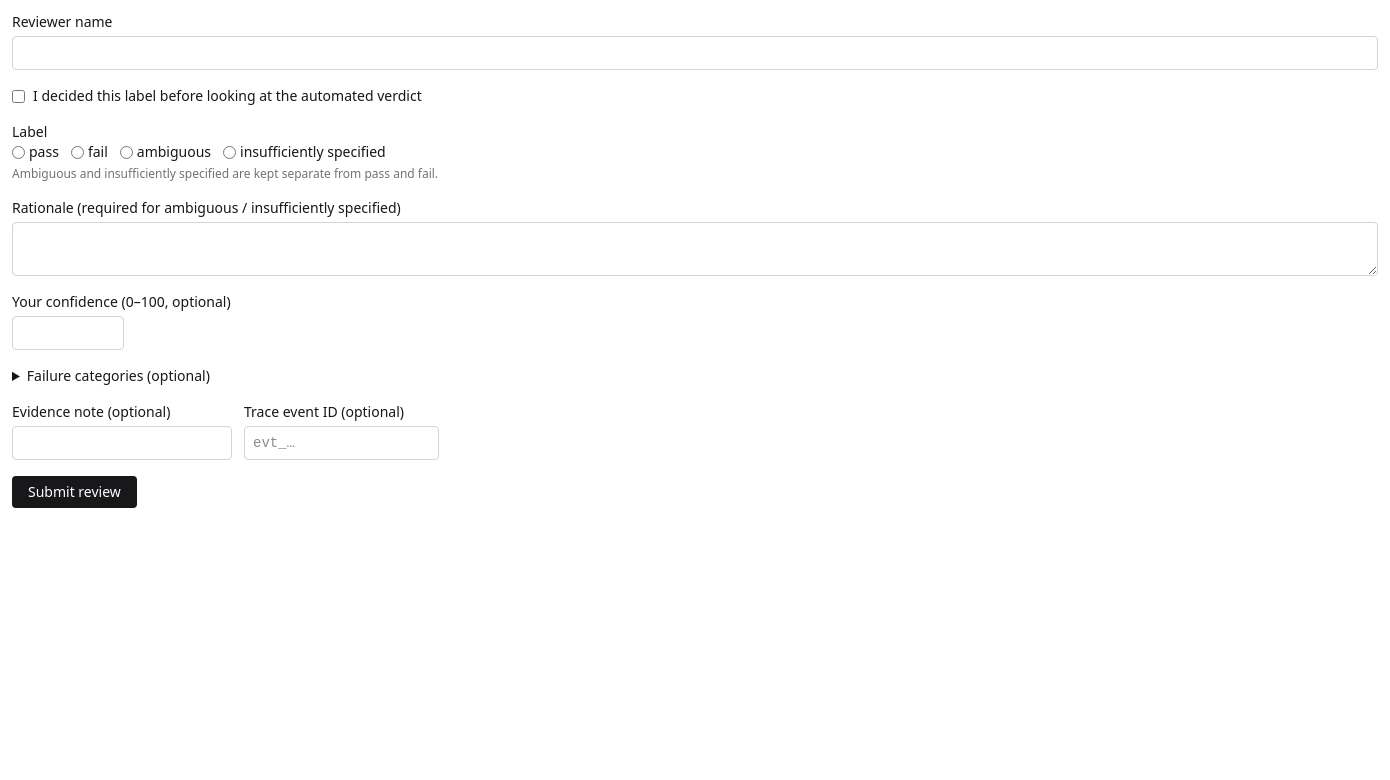
Test: review forms and history › submits through the action and shows field errors it returns
Type "alice" into the field labelled "Reviewer name".
click(695, 53); type("alice")  # box x1=12 y1=36 x2=1378 y2=70
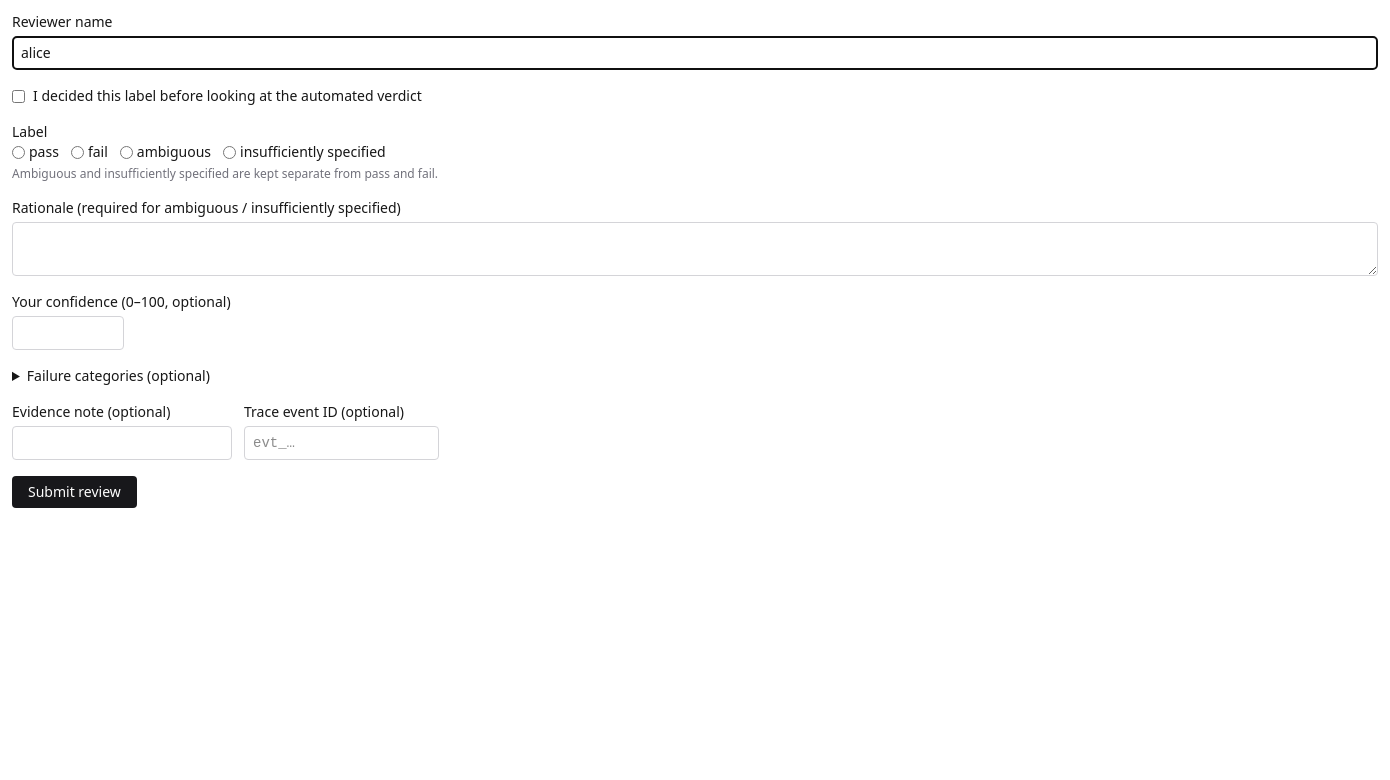
Click the radio button labelled "ambiguous".
click(126, 152)  # box x1=120 y1=146 x2=133 y2=158
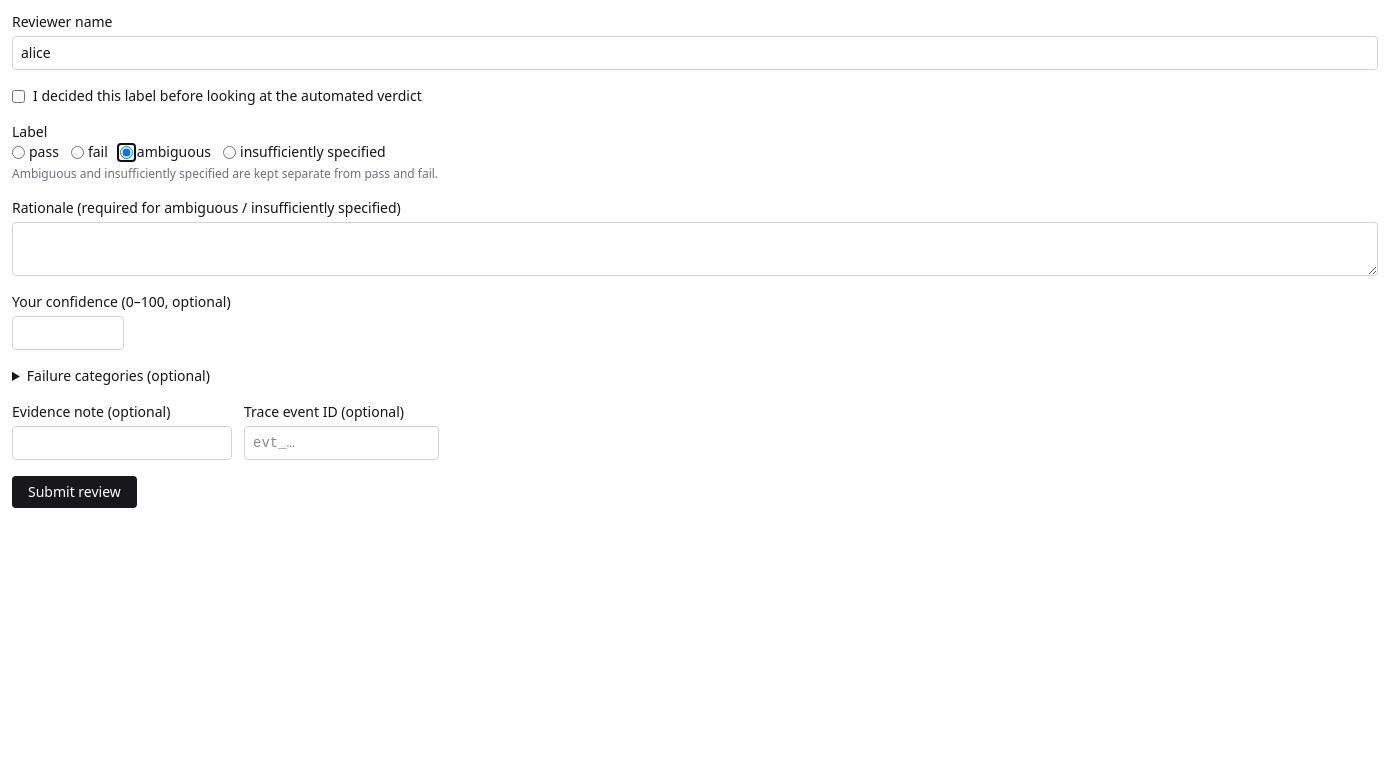
Click the button "Submit review".
click(74, 492)  # box x1=12 y1=476 x2=137 y2=508
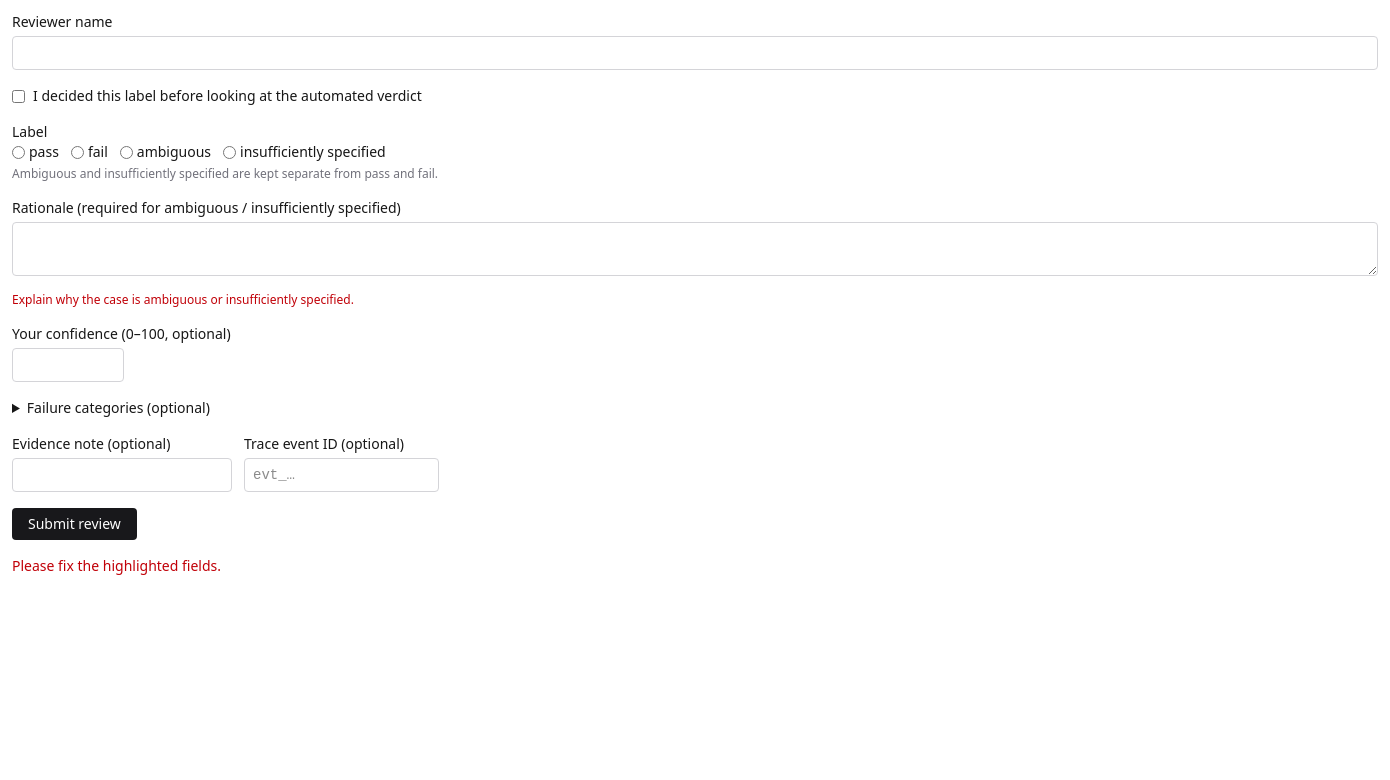
expect the label "ambiguous" is shown: met, box x1=120 y1=142 x2=211 y2=162
expect the message reads "Please fix the highlighted fields.": met, box x1=12 y1=556 x2=221 y2=575
